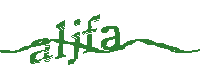a: (28, 38, 54, 64), (100, 23, 122, 52)
f: (84, 12, 101, 59)
j: (68, 18, 81, 67)
l: (54, 21, 70, 60)
